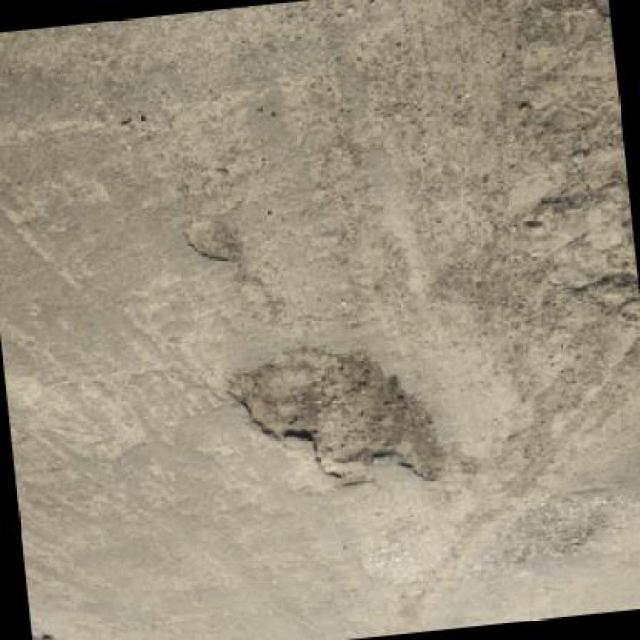pothole1: (217, 330, 449, 504), (179, 211, 243, 269)
